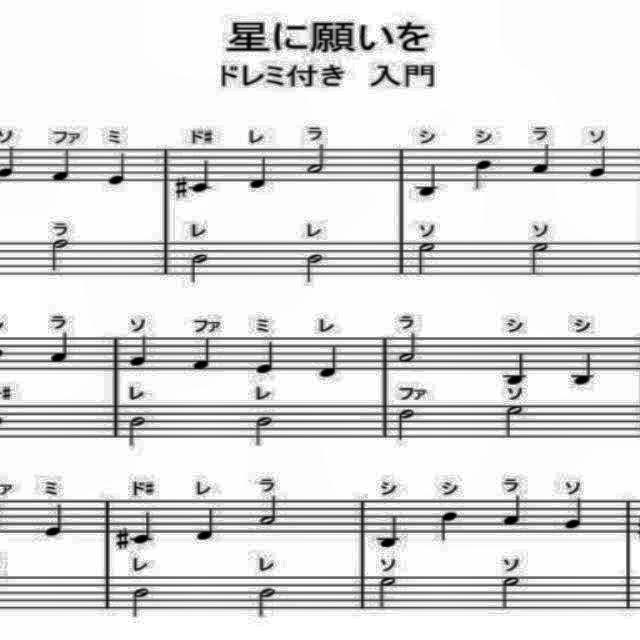Diez: (112, 523, 132, 553), (170, 174, 190, 202)
Half-note: (522, 240, 558, 280), (394, 402, 422, 450), (412, 238, 440, 282), (120, 413, 152, 451), (501, 401, 531, 439), (304, 250, 332, 290), (252, 414, 280, 454), (184, 250, 216, 284), (373, 574, 399, 612), (306, 142, 330, 182), (498, 572, 522, 612), (129, 582, 155, 618), (396, 330, 422, 366), (47, 234, 71, 272), (256, 494, 282, 528), (256, 584, 280, 620)
Quarter-note: (191, 504, 225, 548), (408, 161, 444, 201), (582, 146, 618, 186), (45, 145, 79, 187), (569, 348, 601, 392), (374, 506, 402, 552), (102, 148, 134, 188), (244, 150, 276, 190), (561, 493, 593, 532), (184, 335, 213, 377), (462, 156, 494, 194), (249, 338, 279, 378), (502, 348, 532, 388), (126, 332, 158, 368), (431, 506, 459, 546), (43, 498, 69, 540), (527, 143, 559, 177), (319, 340, 345, 380), (130, 509, 158, 546), (189, 160, 217, 196), (46, 332, 74, 364), (500, 494, 524, 528)
